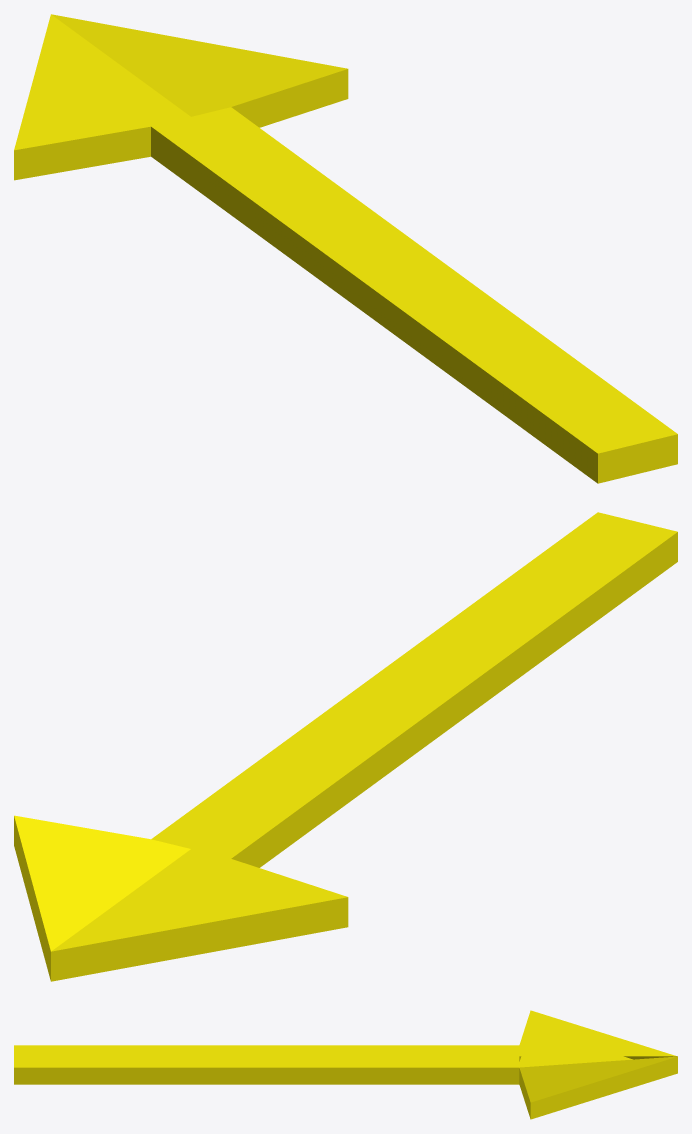
File: Strelka.fbx
3 views of the same model, one above another, from view 1: azimuth 30°, elevation 25°; view 2: azimuth 150°, elevation 25°; view 3: azimuth 270°, elevation 25° (orthographic). The views are drawn at different scales.
Visible parts, largest first — view 1: Cube; view 2: Cube; view 3: Cube.
Boxes of the visible parts, x1,y1,x2,y2 form: Cube: [14, 14, 677, 483]; Cube: [14, 512, 677, 981]; Cube: [14, 1010, 677, 1119].
Bounding box in the file's own units: 391 × 33.56 × 1187.
